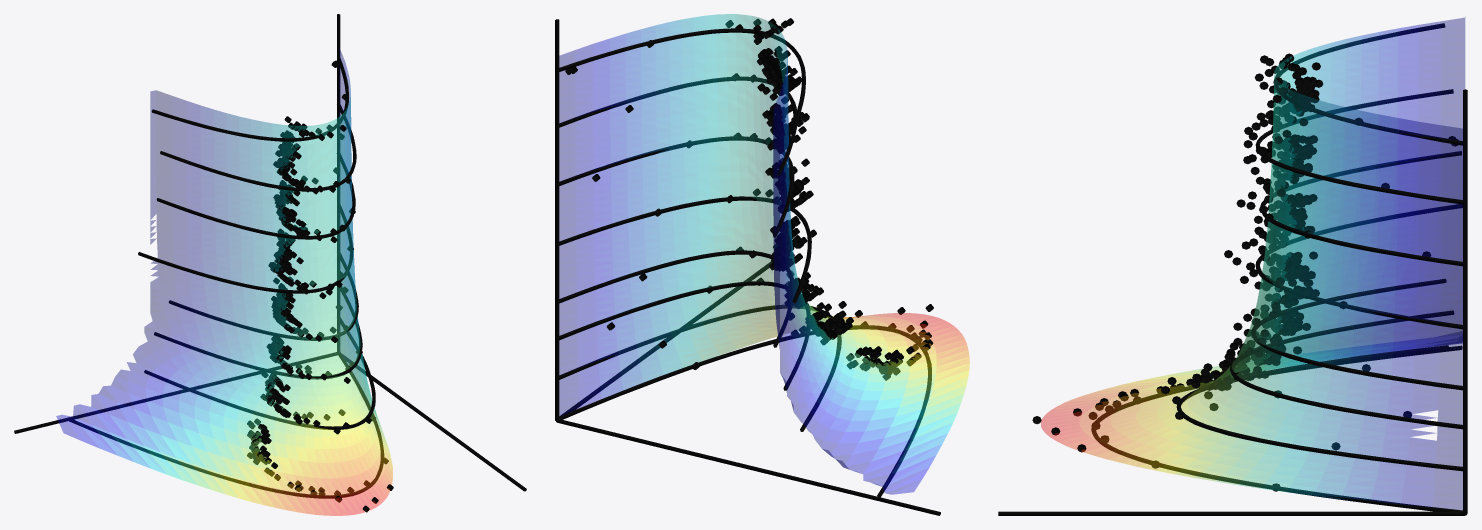
Rendered from pvtComp.obj.
3 renders of one model, left to right at view 1: azimuth 30°, elevation 25°; view 2: azimuth 150°, elevation 25°; view 3: azimuth 270°, elevation 25°, orthographic. The views are drawn at different scales.
Visible parts, largest first — view 1: pvtComp; view 2: pvtComp; view 3: pvtComp.
Part boxes in pixels (x1,y1,x2,y2): pvtComp: [14, 14, 526, 515]; pvtComp: [555, 14, 969, 515]; pvtComp: [998, 18, 1467, 515].
Size of the model in its own units: 1 by 1.01 by 1.
